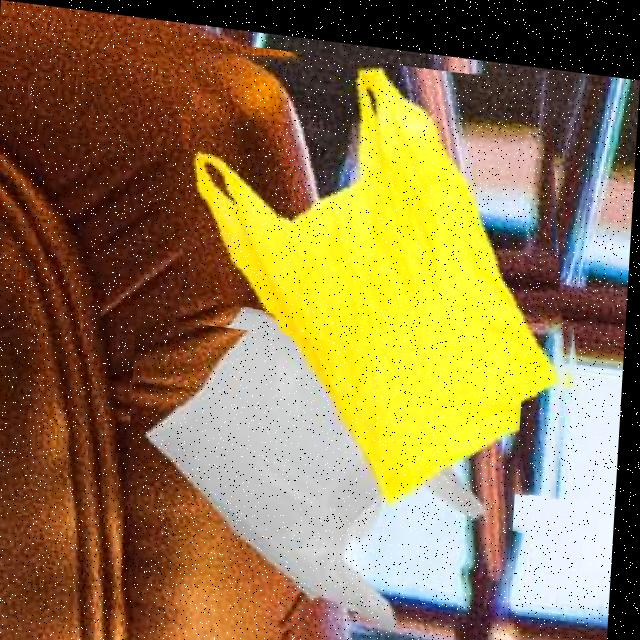litter: (173, 34, 597, 525), (125, 312, 527, 640)
